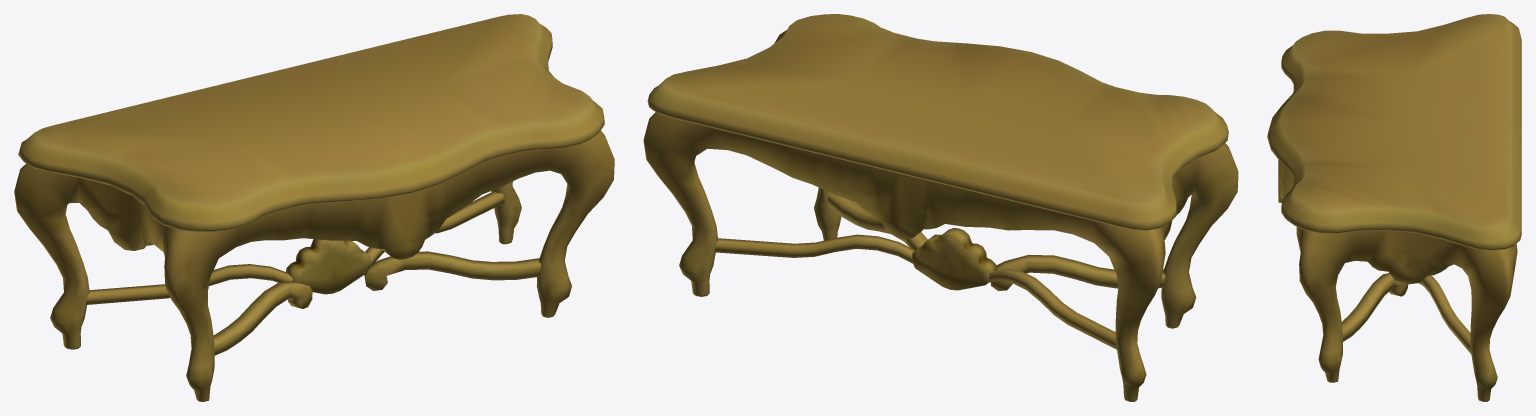
3 renders of one model, left to right at view 1: azimuth 30°, elevation 25°; view 2: azimuth 150°, elevation 25°; view 3: azimuth 270°, elevation 25°, orthographic. The views are drawn at different scales.
Size of the model in its own units: 18.98 by 7.36 by 9.12.
1 material, 1 textured.
